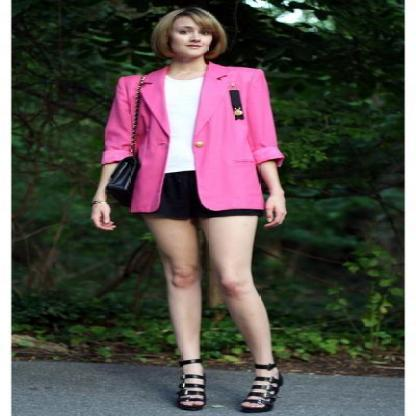bag: (106, 150, 140, 207)
jacket: (102, 62, 283, 212)
shirt: (164, 76, 202, 172)
shoe: (171, 358, 283, 413)
shorts: (153, 171, 278, 228)
